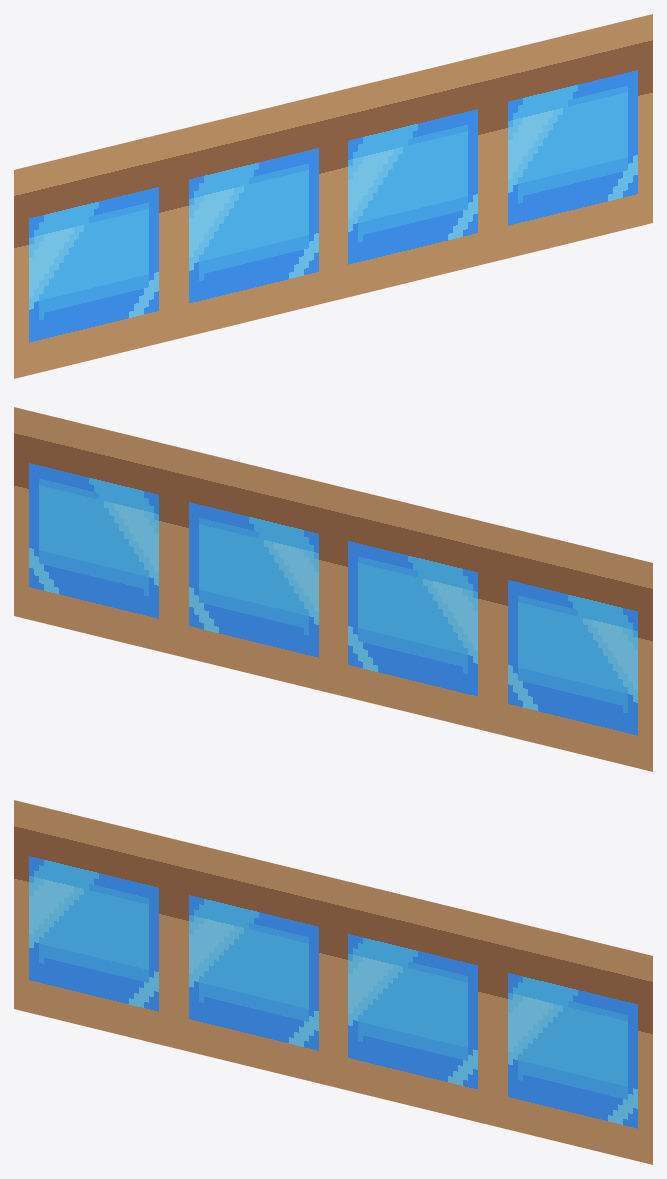
3 renders of one model, top to bottom at view 1: azimuth 30°, elevation 25°; view 2: azimuth 150°, elevation 25°; view 3: azimuth 330°, elevation 25°, orthographic.
Size of the model in its own units: 8 by 2.5 by 0.
Materials: 1 (1 with a texture image).
